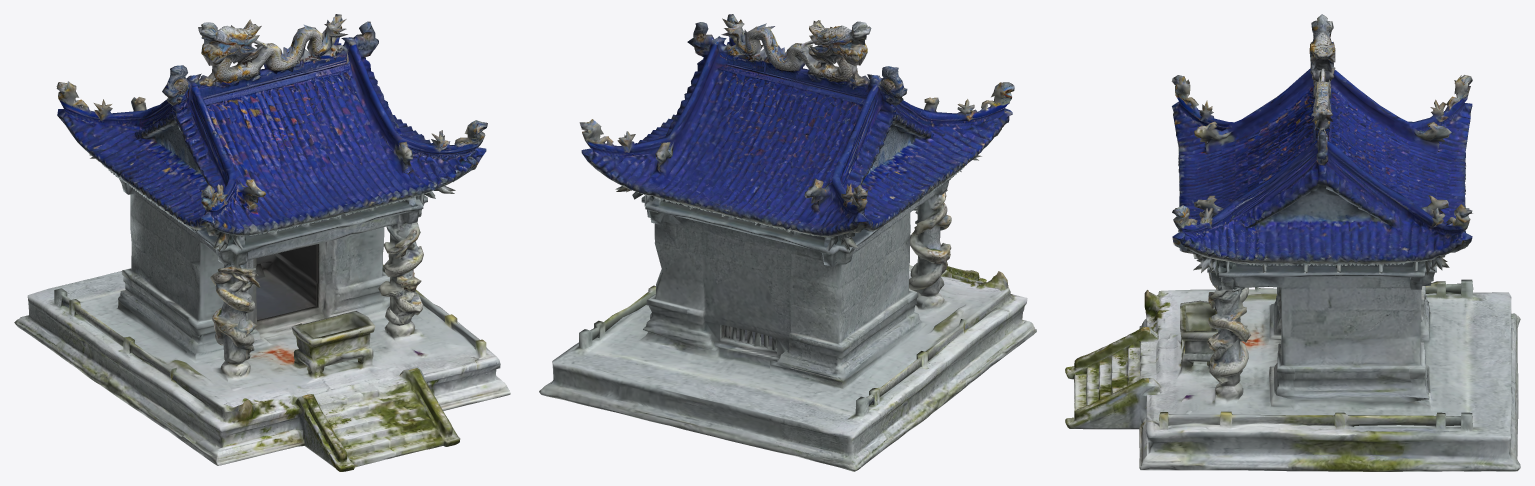
File: dragon_shrine.glb
The picture shows the model from 3 angles, left to right: view 1: azimuth 30°, elevation 25°; view 2: azimuth 150°, elevation 25°; view 3: azimuth 270°, elevation 25°; orthographic projection.
Parts seen in each view (by area): view 1: clean; view 2: clean; view 3: clean.
Boxes of the visible parts, box(x1,y1,x2,y2) form: clean: box(14, 14, 510, 471); clean: box(539, 14, 1036, 471); clean: box(1065, 14, 1520, 471).
Bounding box in the file's own units: 139 × 150 × 174.
Materials: 1 (1 with a texture image).
